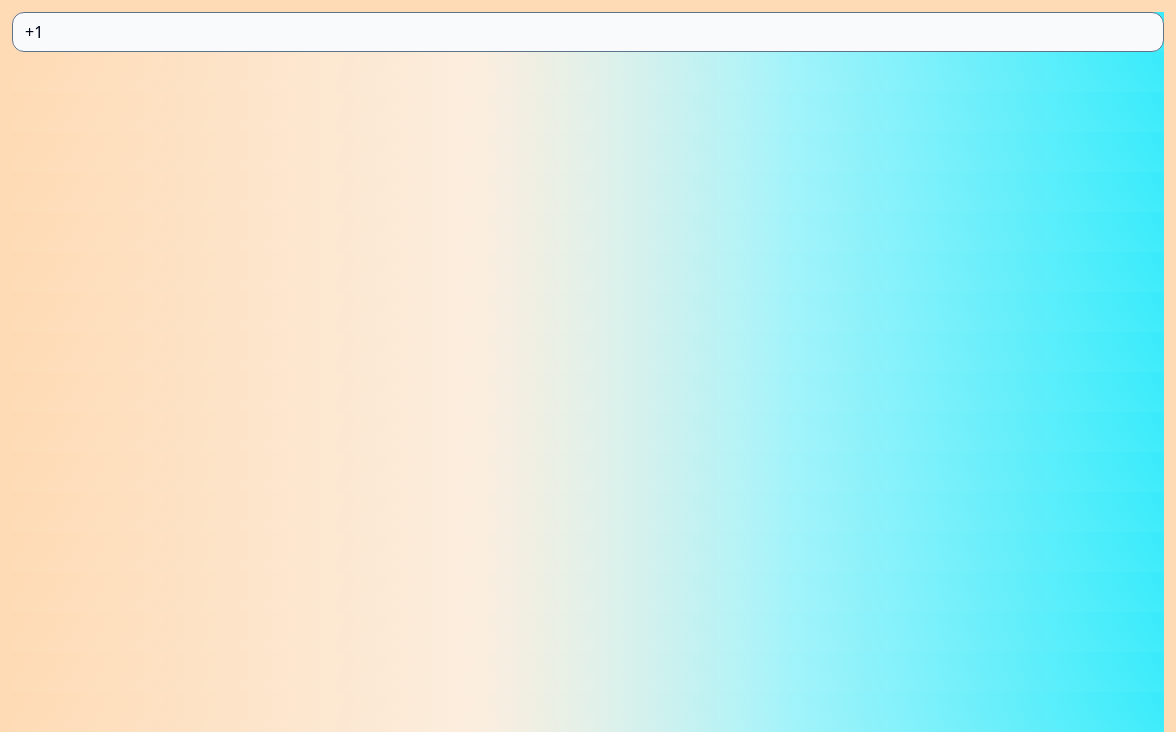
Test: PhoneField › неуправляемый режим › defaultValue и ввод, onValueChange получает строку, onChange тоже вызывается
In the field named "Phone": (588, 32) [12,12,1164,52], type "55"
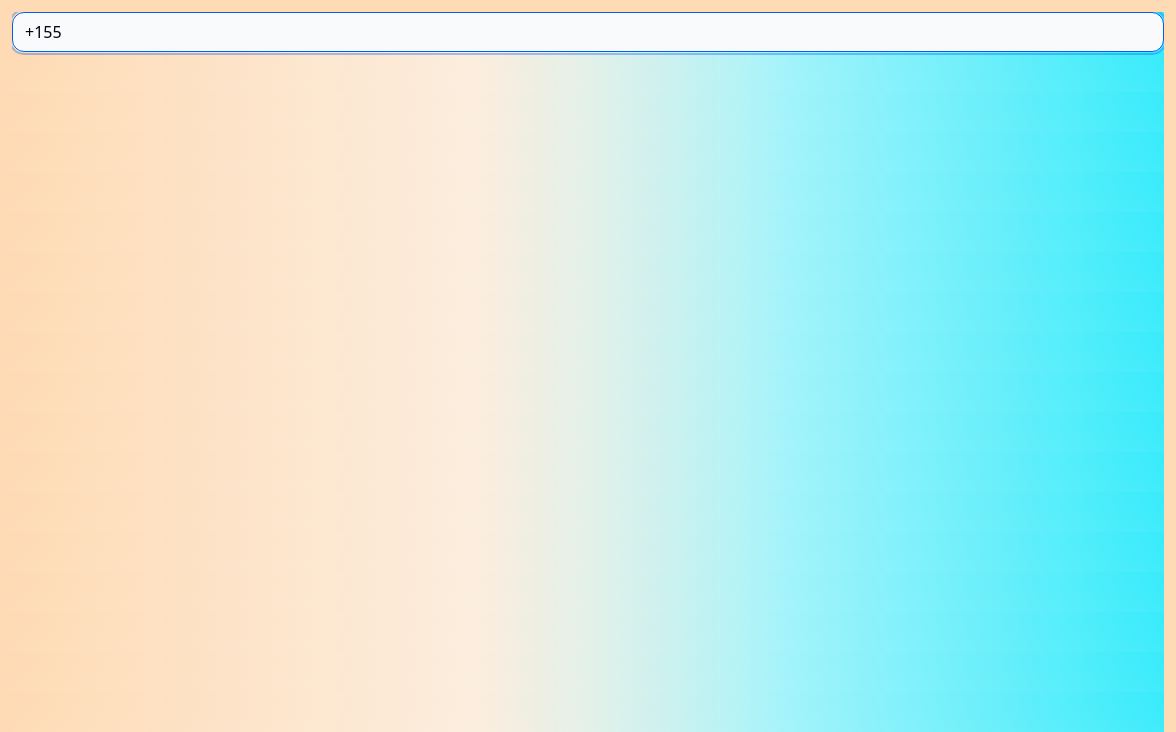
Expected: the field named "Phone" holds "+155", [12,12,1164,52]
